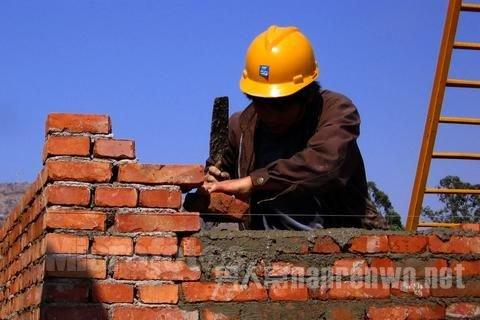helmet: (241, 26, 322, 99)
